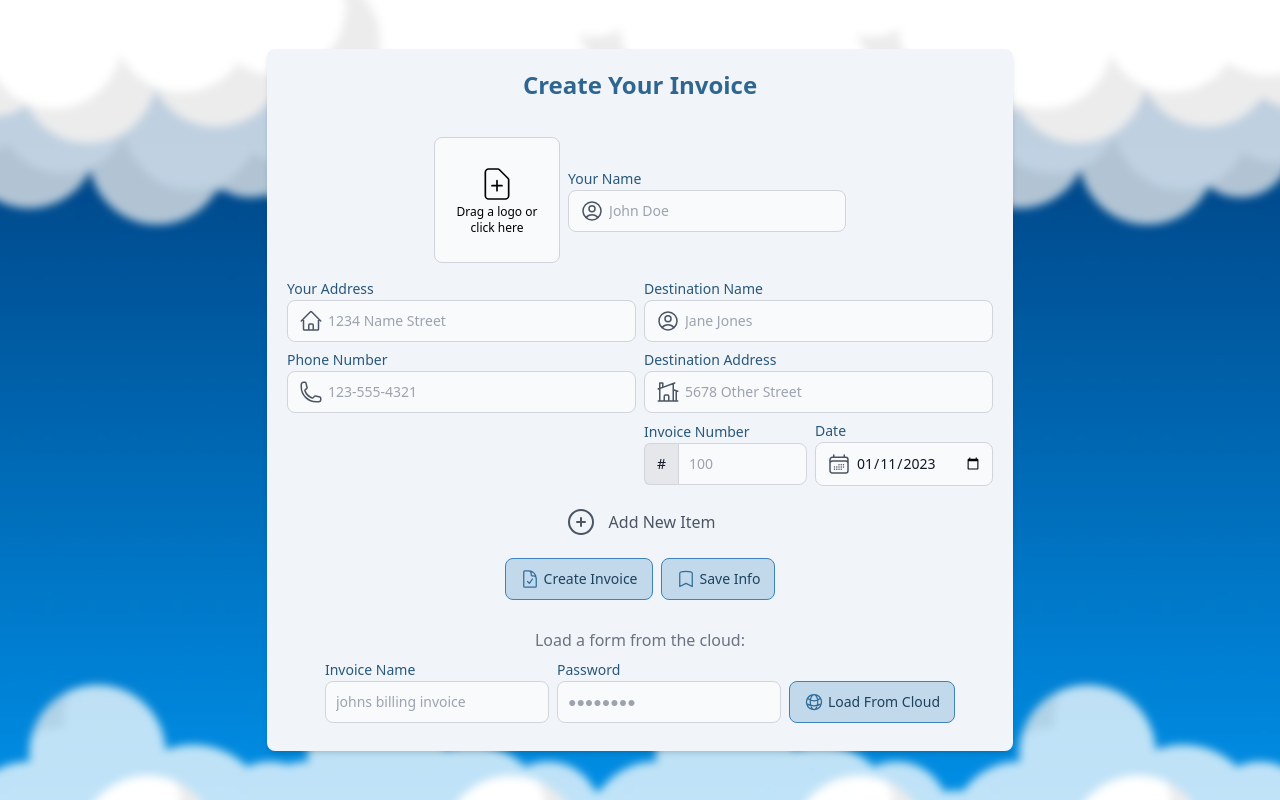
it: Inputs › doesnt allow submissions with no name
Click the text "Create Invoice". click: (591, 579)
box: [544,569,638,589]
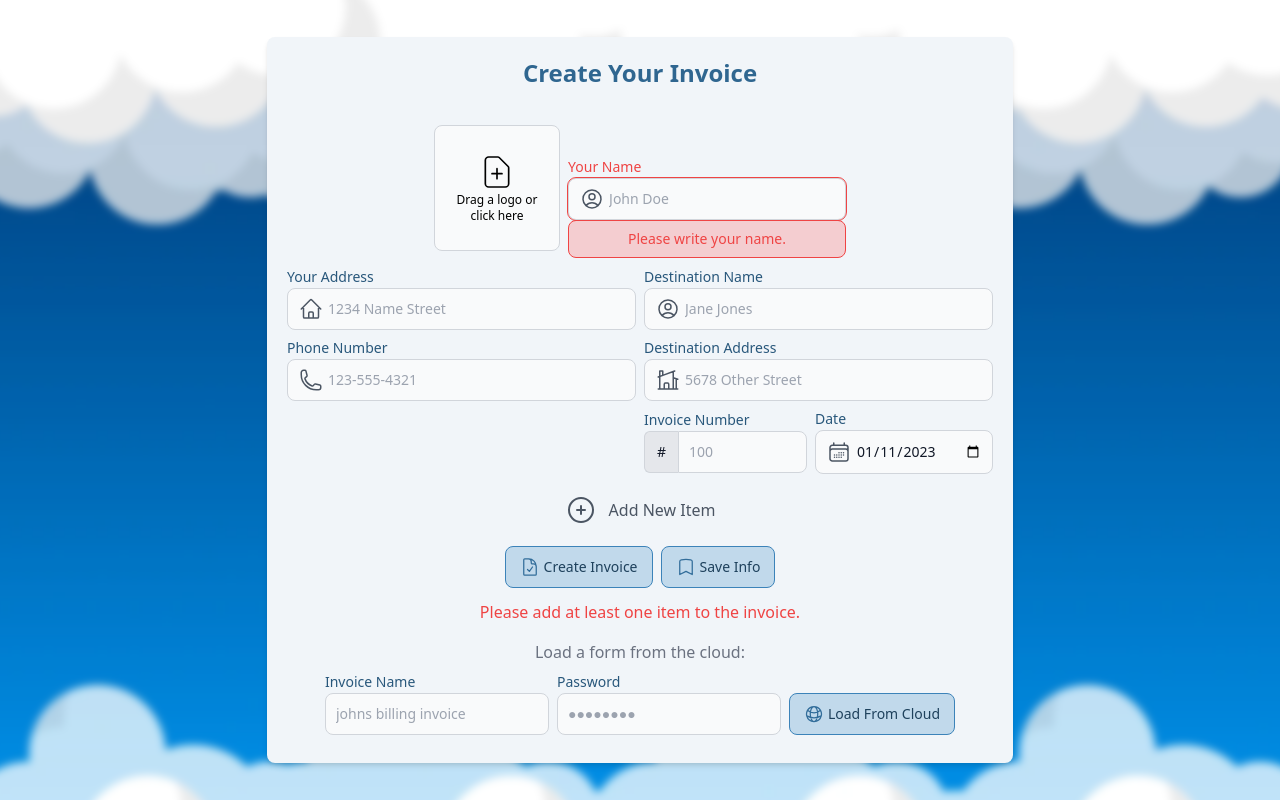
Now the text "Please write your name." is shown, box [628,228,786,248]
Now the text "Please add at least one item to the invoice." is shown, box [480,600,800,624]
